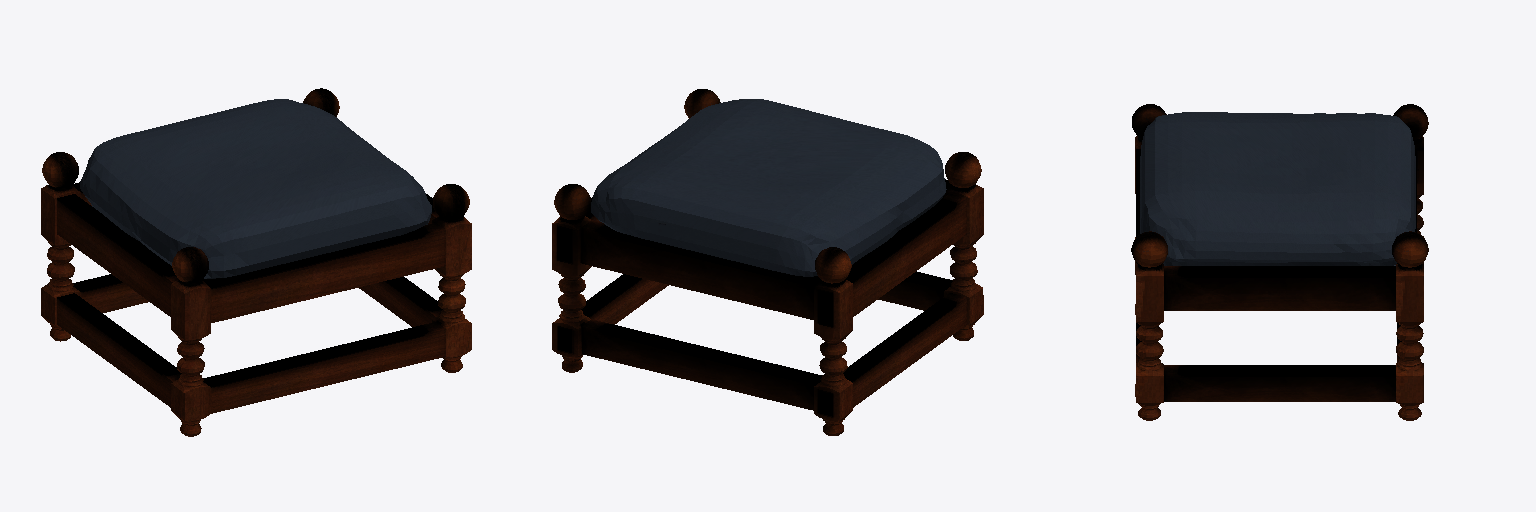
The picture shows the model from 3 angles: view 1: azimuth 30°, elevation 25°; view 2: azimuth 150°, elevation 25°; view 3: azimuth 270°, elevation 25°; orthographic projection.
Visible parts, largest first — view 1: Throne-Ottoman.obj; view 2: Throne-Ottoman.obj; view 3: Throne-Ottoman.obj.
Boxes of the visible parts, x1=… form: Throne-Ottoman.obj: x1=41, y1=88, x2=471, y2=436; Throne-Ottoman.obj: x1=552, y1=89, x2=983, y2=435; Throne-Ottoman.obj: x1=1131, y1=104, x2=1428, y2=420.
Size of the model in its own units: 4.45 by 2.9 by 3.92.
Materials: 2 (2 with a texture image).